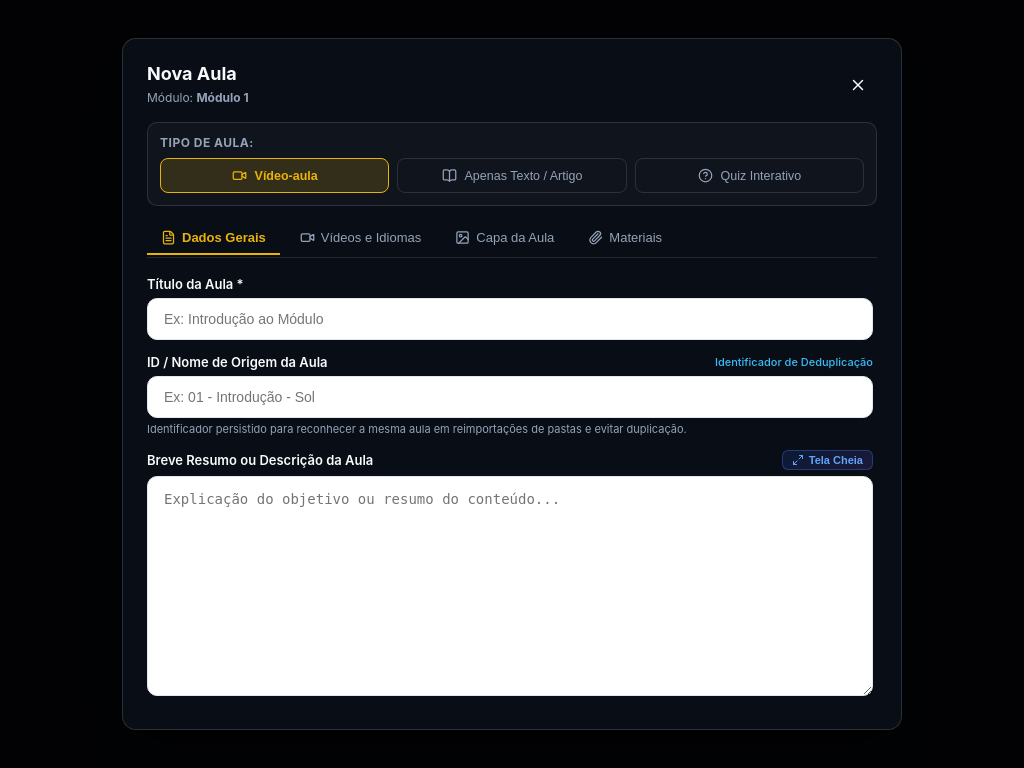
Test case: LessonModal Component with Lesson Types › switches between video, text and quiz tabs when lesson type is selected
Expected: the button with test id "lesson-modal-tab-videos" is shown, [286, 222, 435, 255]
# Clica no tipo Texto
Step 1. Click the button with test id "type-text-btn" → x=512, y=176, box [397, 158, 627, 193]
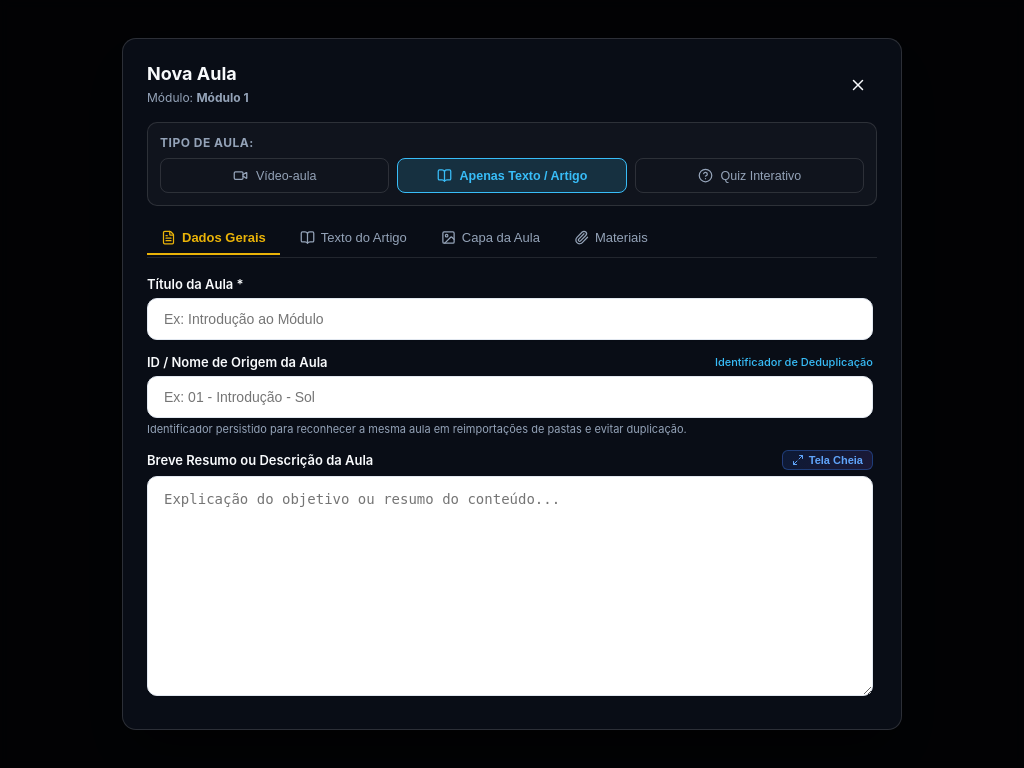
Expected: the button with test id "lesson-modal-tab-videos" is gone
Expected: the button with test id "lesson-modal-tab-text_body" is shown, [286, 222, 421, 255]
# Clica no tipo Quiz
Step 2. Click the button with test id "type-quiz-btn" → x=749, y=176, box [635, 158, 864, 193]
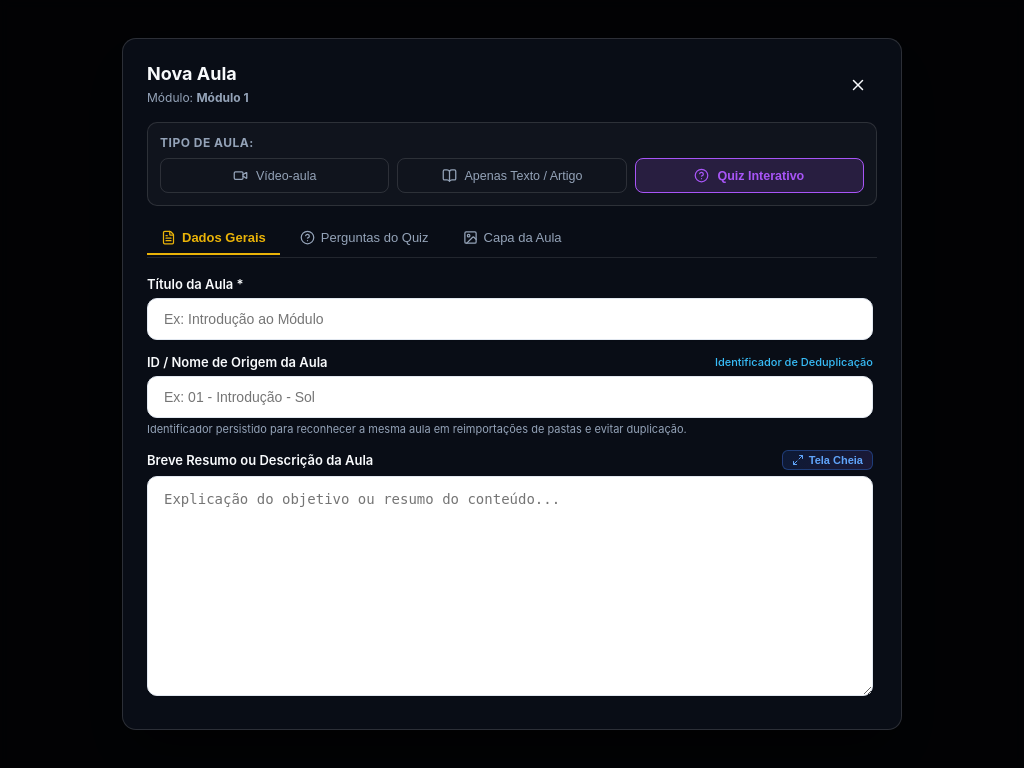
Expected: the button with test id "lesson-modal-tab-quiz" is shown, [286, 222, 442, 255]
